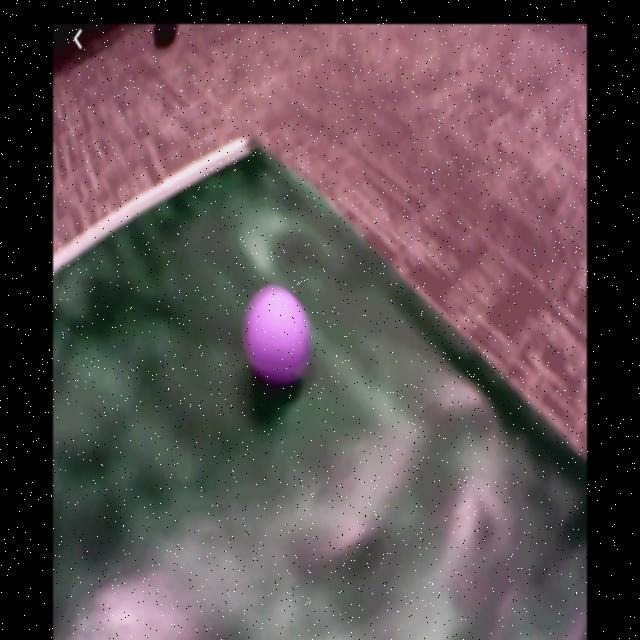ball: (247, 287, 314, 385)
